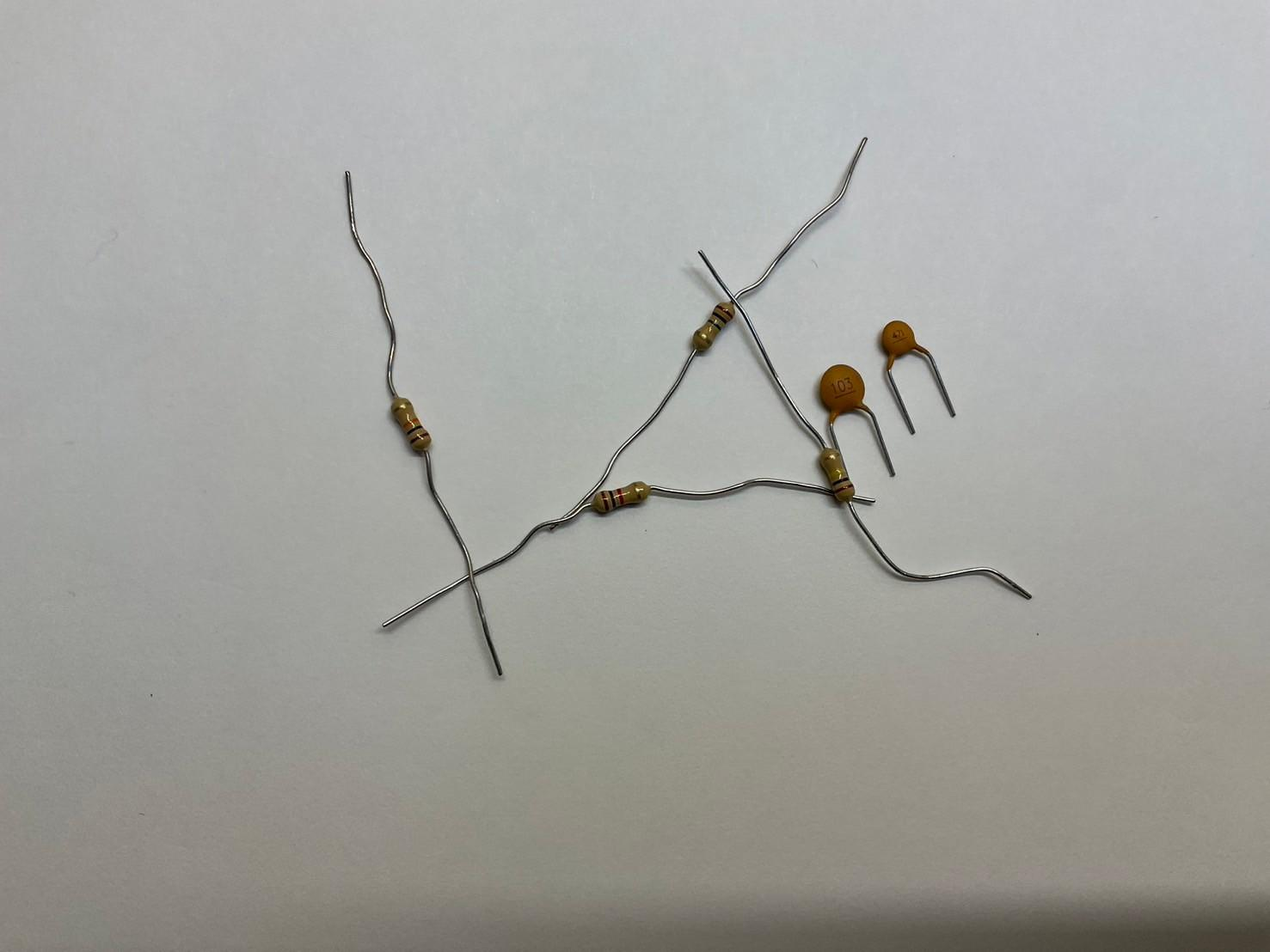resistor: (688, 301, 736, 354), (820, 443, 857, 509), (390, 396, 433, 452), (591, 480, 649, 514)
